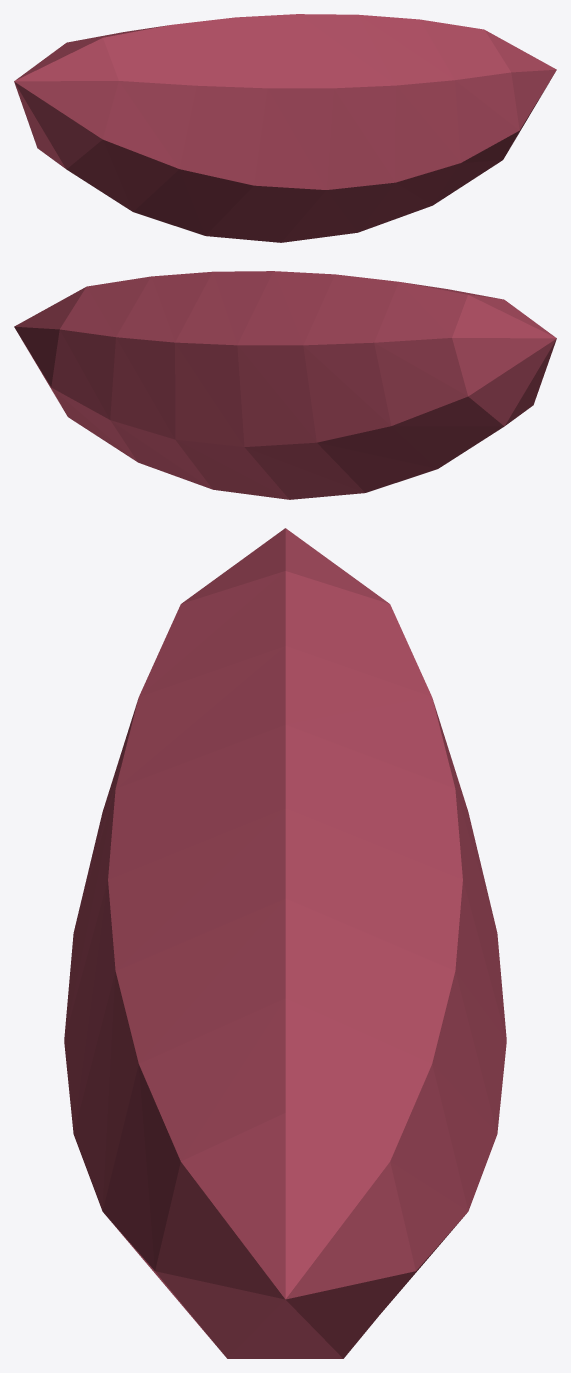
The model's file is Food_SweetPotato.obj.
3 views of the same model, one above another, from view 1: azimuth 30°, elevation 25°; view 2: azimuth 150°, elevation 25°; view 3: azimuth 270°, elevation 25° (orthographic). The views are drawn at different scales.
Size of the model in its own units: 2.21 by 0.9108 by 0.78.
